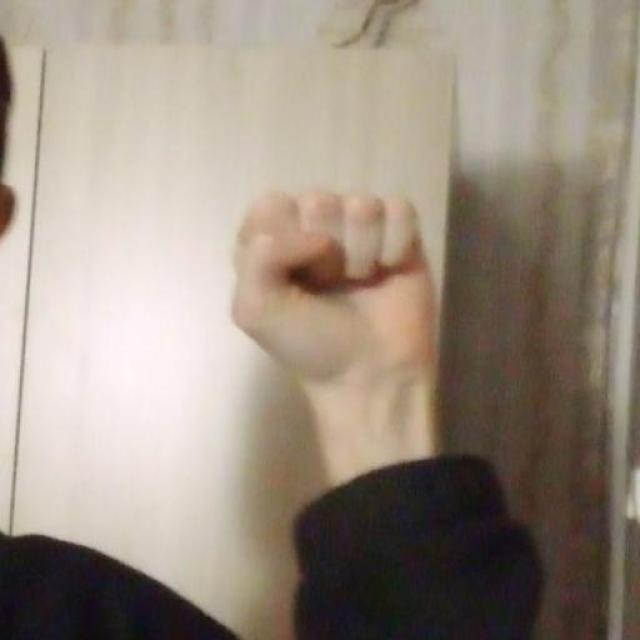hand: (229, 185, 436, 383)
